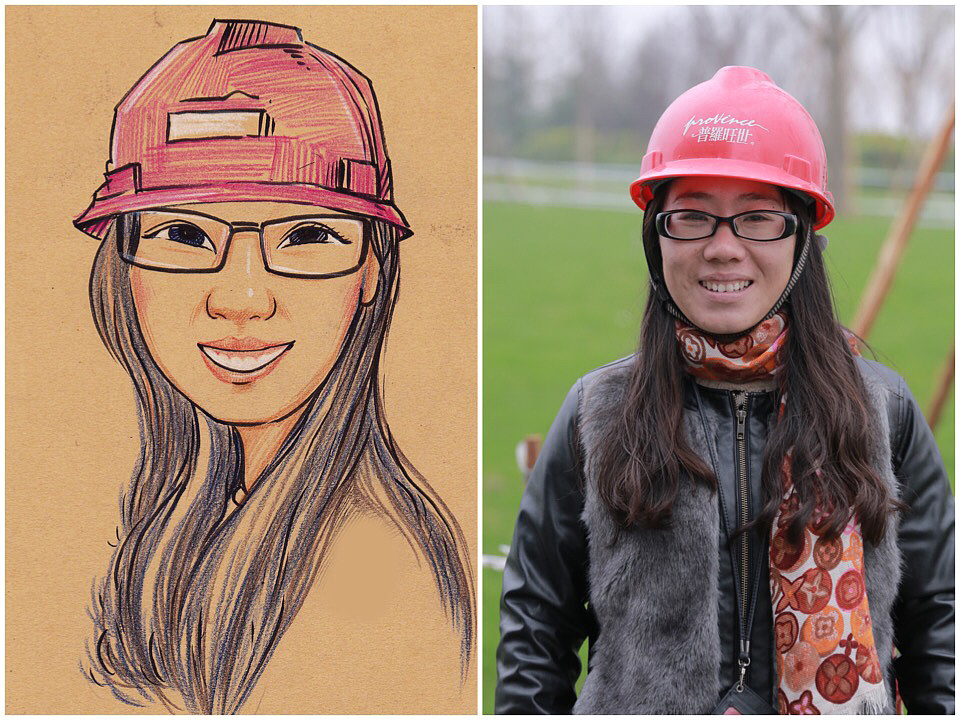safetyhat: (531, 49, 940, 705)
